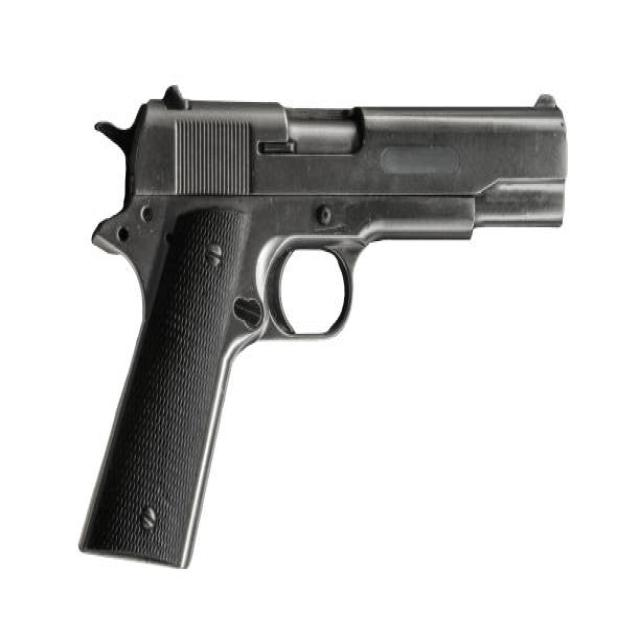pistol: (78, 85, 576, 575)
